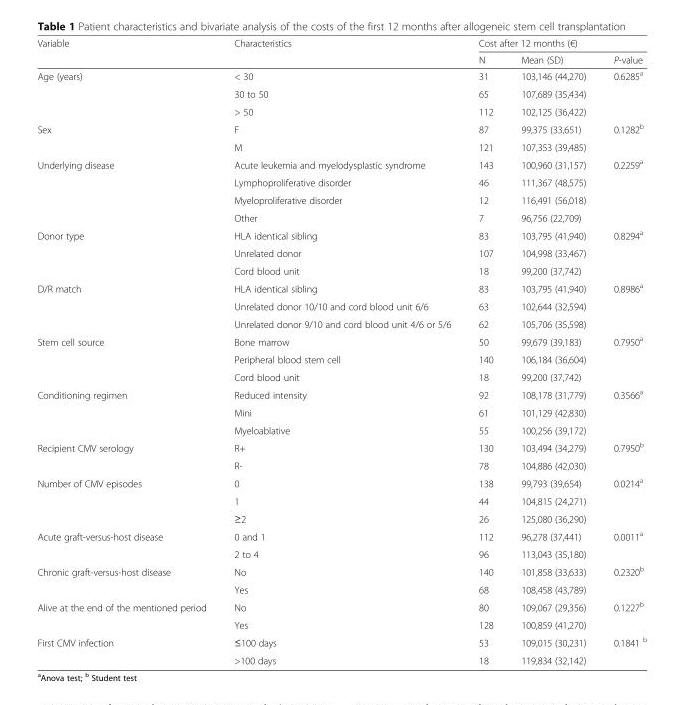table: (36, 37, 646, 665)
table column: (219, 37, 464, 665), (36, 37, 219, 665), (506, 37, 599, 665), (599, 37, 646, 665), (464, 37, 506, 665)
table column header: (36, 37, 646, 66)
table row: (36, 154, 646, 173), (36, 225, 646, 244), (36, 278, 646, 297), (36, 331, 646, 350), (36, 384, 646, 403), (36, 473, 646, 492), (36, 526, 646, 545), (36, 632, 646, 651), (36, 66, 646, 84), (36, 84, 646, 102), (36, 119, 646, 137), (36, 173, 646, 191), (36, 350, 646, 368), (36, 403, 646, 421), (36, 438, 646, 456), (36, 562, 646, 580), (36, 597, 646, 615), (36, 102, 646, 119), (36, 137, 646, 154), (36, 191, 646, 208), (36, 208, 646, 225), (36, 244, 646, 261), (36, 261, 646, 278), (36, 297, 646, 314), (36, 314, 646, 331), (36, 421, 646, 438), (36, 456, 646, 473), (36, 492, 646, 509), (36, 509, 646, 526), (36, 545, 646, 562), (36, 580, 646, 597), (36, 615, 646, 632), (36, 368, 646, 384), (36, 51, 646, 66), (36, 37, 646, 51), (36, 651, 646, 665)
table spanning cell: (36, 154, 219, 225), (36, 384, 219, 438), (36, 66, 219, 119), (36, 225, 219, 278), (36, 278, 219, 331), (36, 331, 219, 384), (36, 473, 219, 526), (219, 37, 464, 66), (36, 526, 219, 562), (36, 119, 219, 154), (36, 438, 219, 473), (36, 562, 219, 597), (36, 597, 219, 632), (36, 632, 219, 665), (36, 37, 219, 66), (599, 154, 646, 225), (464, 37, 646, 51), (599, 384, 646, 438), (599, 66, 646, 119), (599, 225, 646, 278), (599, 278, 646, 331), (599, 331, 646, 384), (599, 473, 646, 526), (599, 526, 646, 562), (599, 119, 646, 154), (599, 438, 646, 473), (599, 562, 646, 597), (599, 597, 646, 632), (599, 632, 646, 665)
